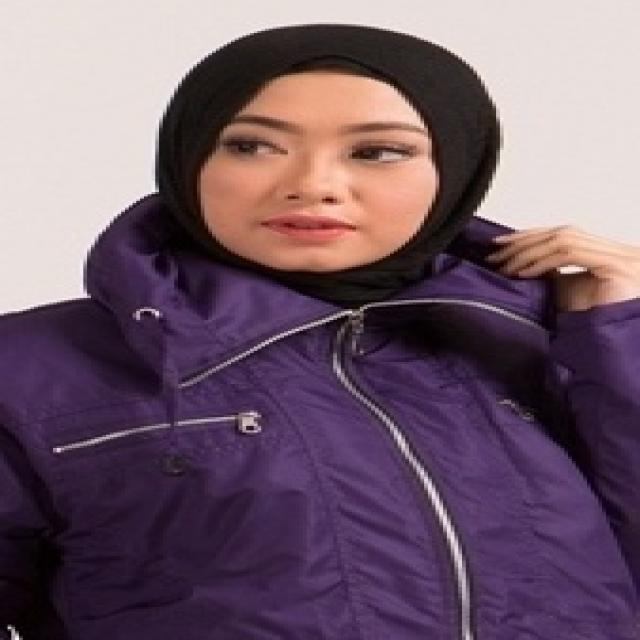head: (167, 24, 485, 281)
